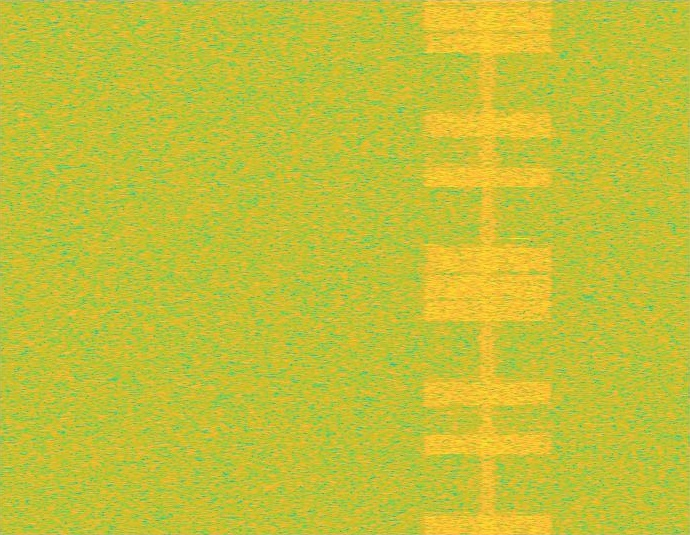DSSS: (478, 0, 497, 534)
LTE: (419, 0, 557, 534)
Radar: (512, 0, 526, 534)
